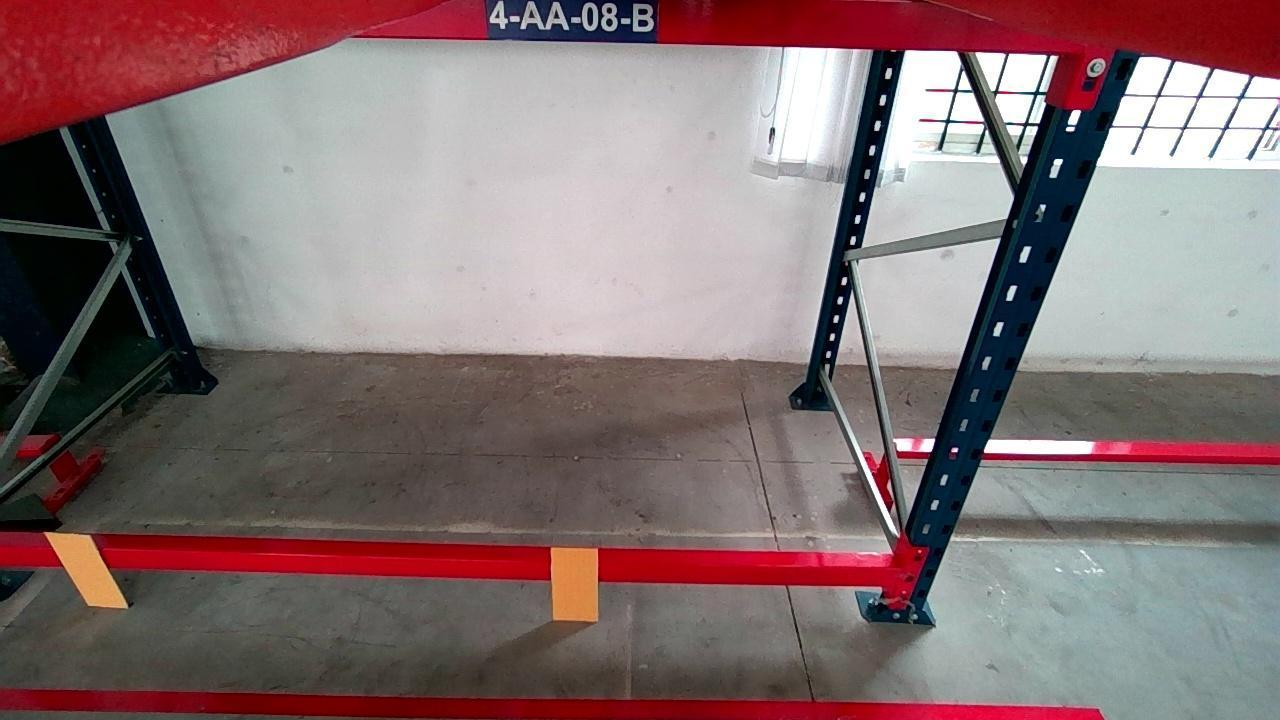h_rack: (3, 546, 901, 585)
orange_strip: (41, 532, 127, 608), (550, 546, 597, 619)
red_line: (0, 686, 1109, 720)
